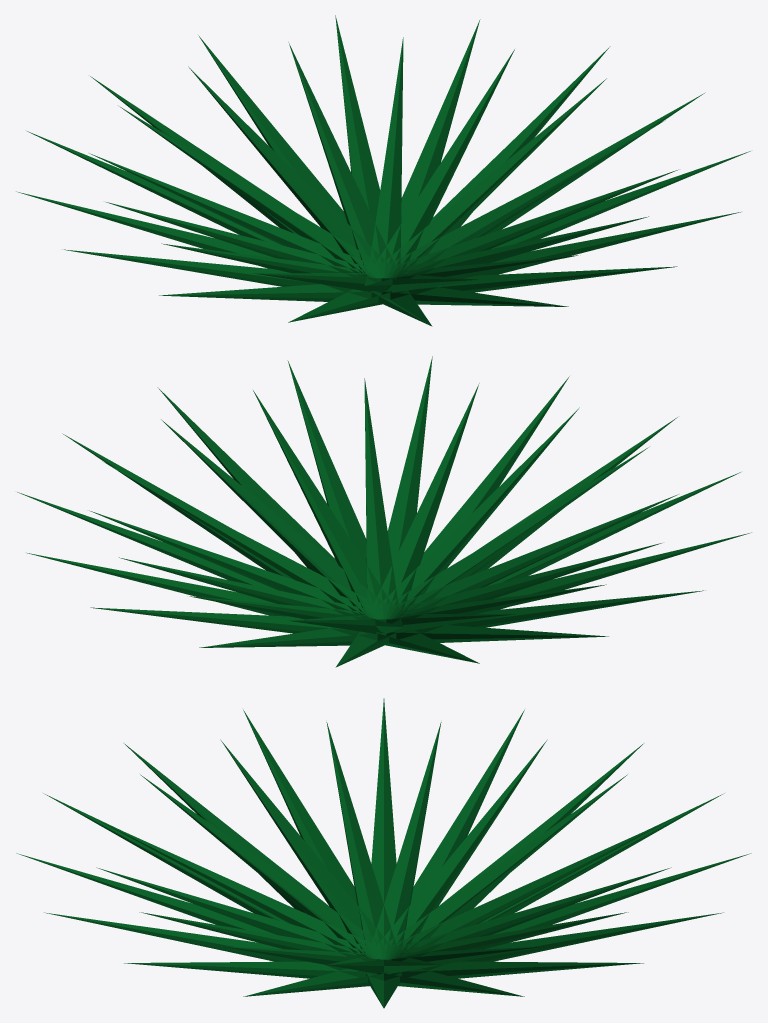
File: ReducedCartoonBrushImport.fbx
3 views of the same model, one above another, from view 1: azimuth 30°, elevation 25°; view 2: azimuth 150°, elevation 25°; view 3: azimuth 270°, elevation 25° (orthographic).
Visible parts, largest first — view 1: Mesh; view 2: Mesh; view 3: Mesh.
Boxes of the visible parts, x1=… form: Mesh: x1=16, y1=15, x2=750, y2=326; Mesh: x1=17, y1=356, x2=751, y2=667; Mesh: x1=16, y1=698, x2=751, y2=1008.
Size of the model in its own units: 11.31 by 2.36 by 11.31.
